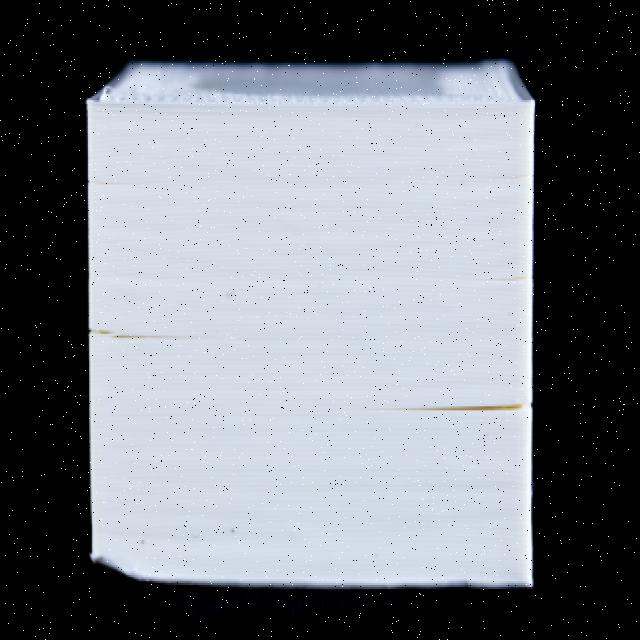cracks: (372, 352, 568, 442), (61, 290, 228, 364)
